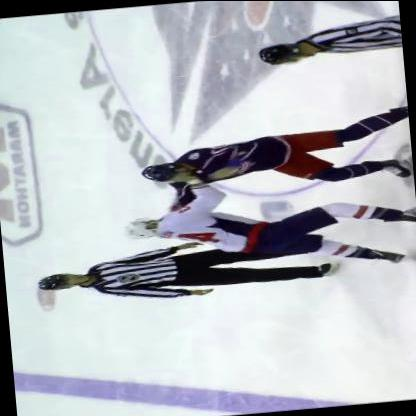voilence: (119, 120, 415, 273)
